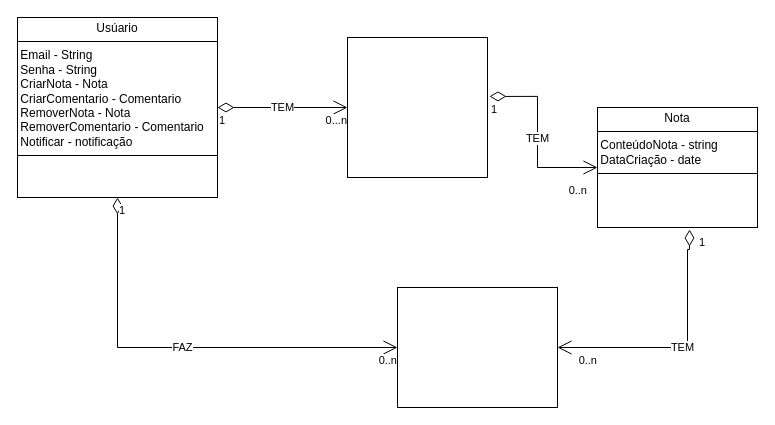
The diagram is 775 pixels wide and 425 high, and some of its shapes have lost their labels. Here are the shapes that lost their labels. From the top down, the box of each, then its label:
(346, 36, 488, 178): Blog Titulo - INT DataCriacao - date CriarBlog - blog
(396, 286, 558, 408): Comentario Comentario - String DataCriacao - Date
